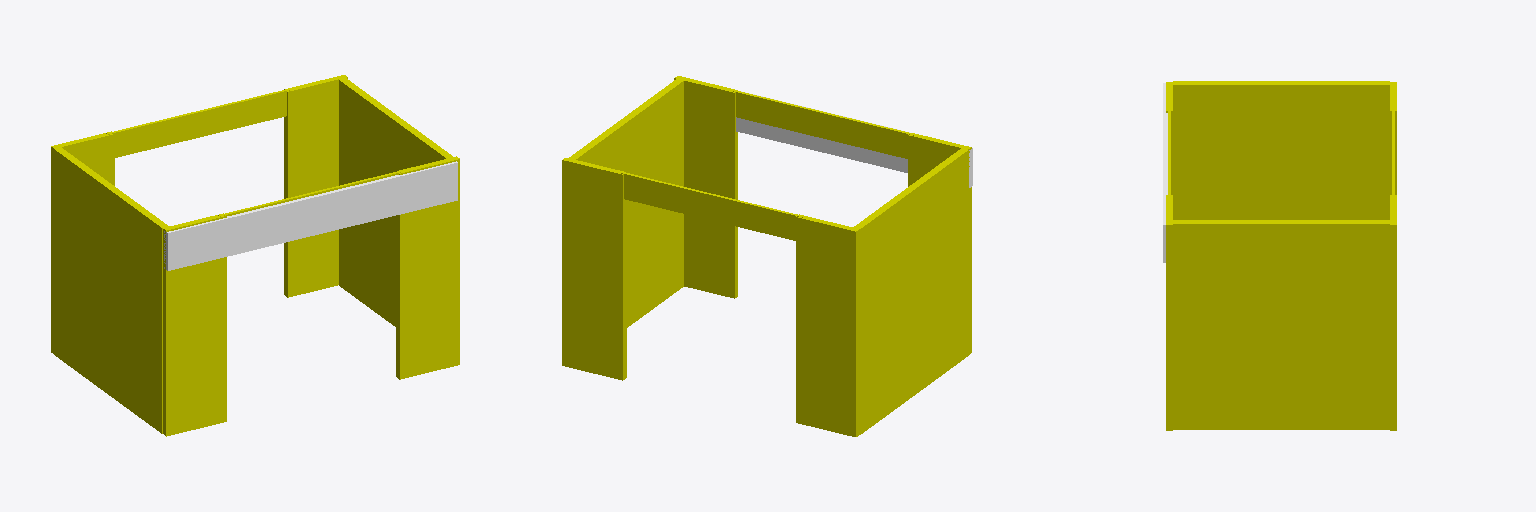
The model's file is phongdoitau.obj.
3 renders of one model, left to right at view 1: azimuth 30°, elevation 25°; view 2: azimuth 150°, elevation 25°; view 3: azimuth 270°, elevation 25°, orthographic.
Visible parts, largest first — view 1: obj4, obj9, obj5, obj1, obj2, obj7, obj8, obj6, obj3; view 2: obj4, obj7, obj6, obj5, obj2, obj8, obj3, obj9, obj1; view 3: obj5, obj4, obj2, obj7, obj9, obj6.
Boxes of the visible parts, box(x1,y1,x2,y2) form: obj4: box(54, 147, 168, 433); obj9: box(164, 161, 457, 270); obj5: box(339, 78, 452, 326); obj1: box(163, 213, 226, 436); obj2: box(396, 156, 459, 379); obj7: box(284, 75, 347, 297); obj8: box(106, 89, 289, 157); obj6: box(51, 131, 114, 353); obj3: box(218, 171, 400, 216); obj4: box(853, 148, 968, 434); obj7: box(562, 158, 626, 380); obj6: box(796, 214, 859, 436); obj5: box(569, 79, 683, 327); obj2: box(674, 76, 737, 298); obj8: box(621, 172, 803, 240); obj3: box(733, 90, 915, 158); obj9: box(736, 91, 972, 187); obj1: box(908, 133, 971, 354); obj5: box(1173, 220, 1389, 429); obj4: box(1173, 81, 1389, 219); obj2: box(1166, 195, 1172, 430); obj7: box(1390, 195, 1396, 430); obj9: box(1163, 83, 1167, 262); obj6: box(1390, 82, 1396, 194).
Size of the model in its own units: 24.31 by 16.27 by 16.7.